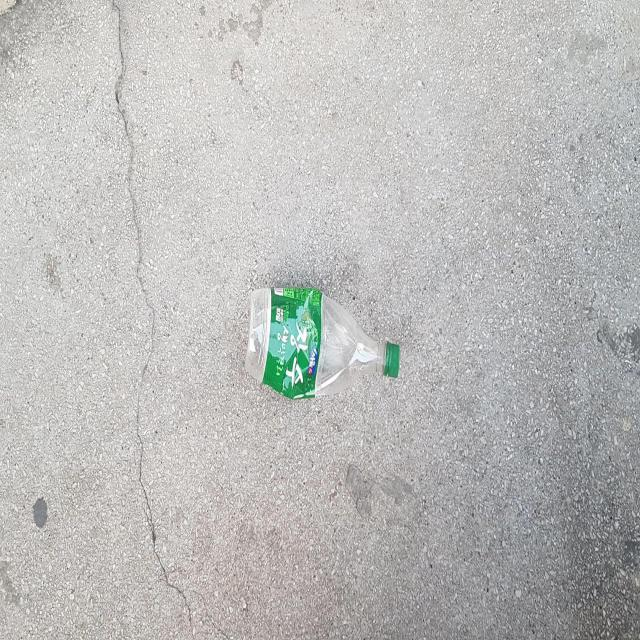plastic: (245, 286, 400, 399)
